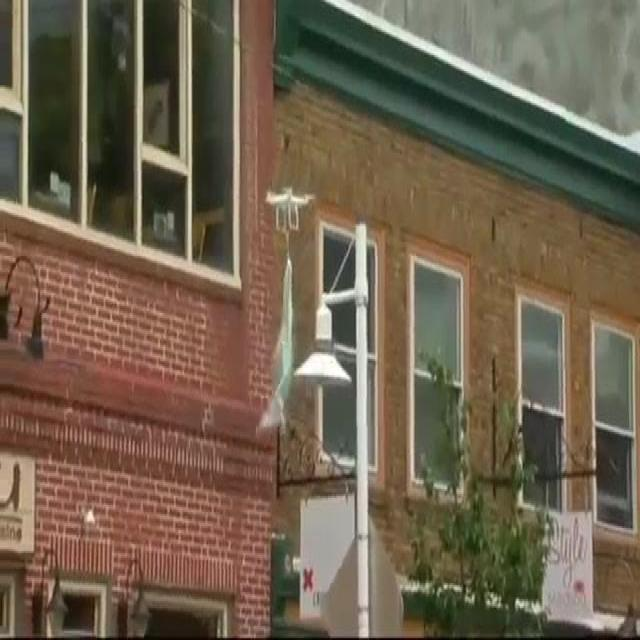UAV: (264, 187, 317, 234)
